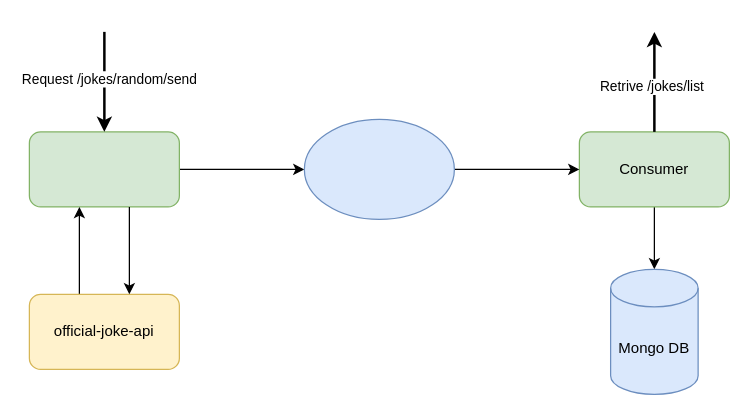
Image size: 751x416. Some labels were removed from this diagram. Here are the shapes that lost their labels. From the top down, the centre of each, then its label:
(x=103, y=169): Producer
(x=378, y=168): Kafka
